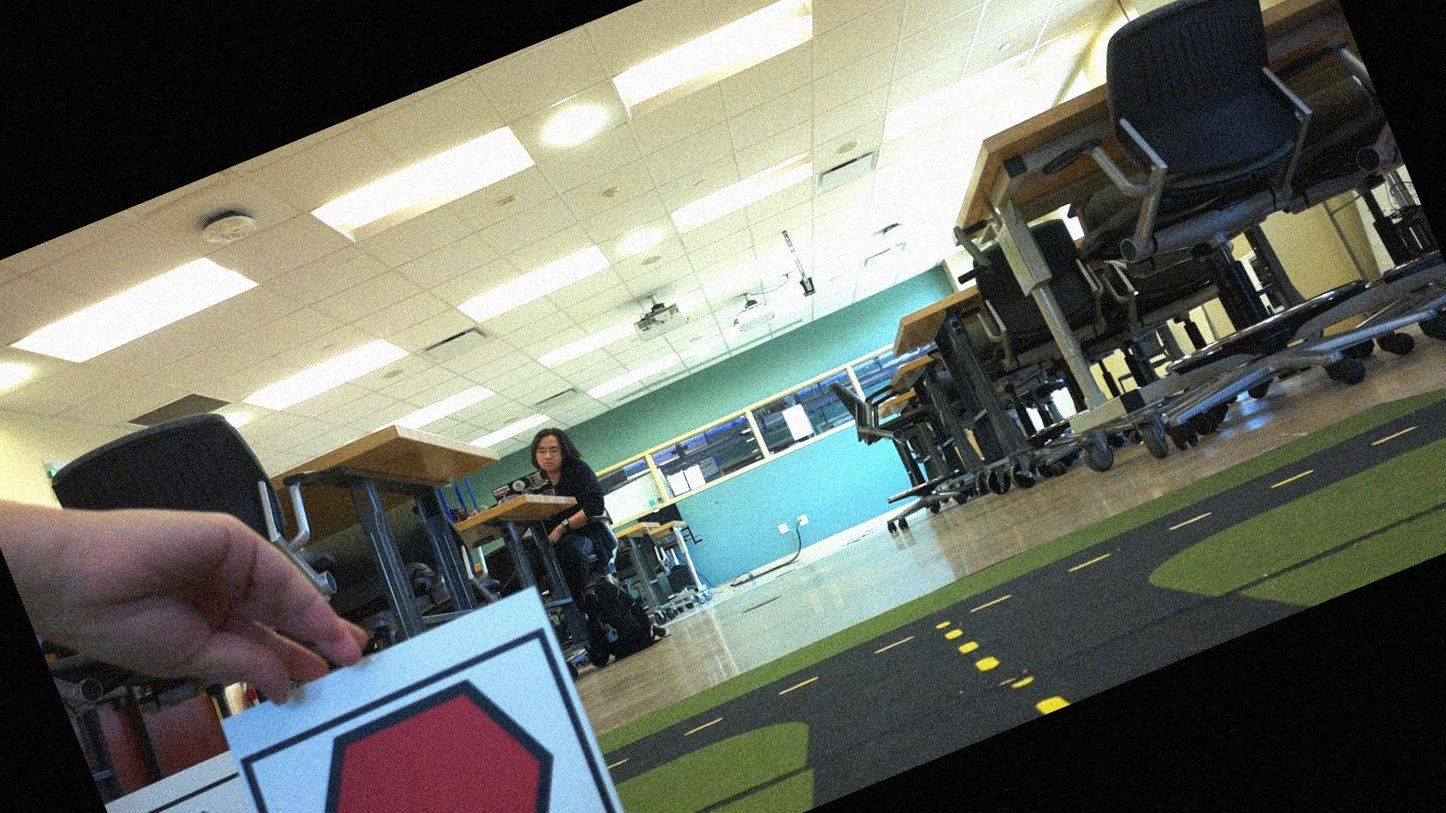stop: (258, 641, 621, 812)
turnright: (116, 783, 285, 812)
yellowline: (945, 598, 1071, 737)
